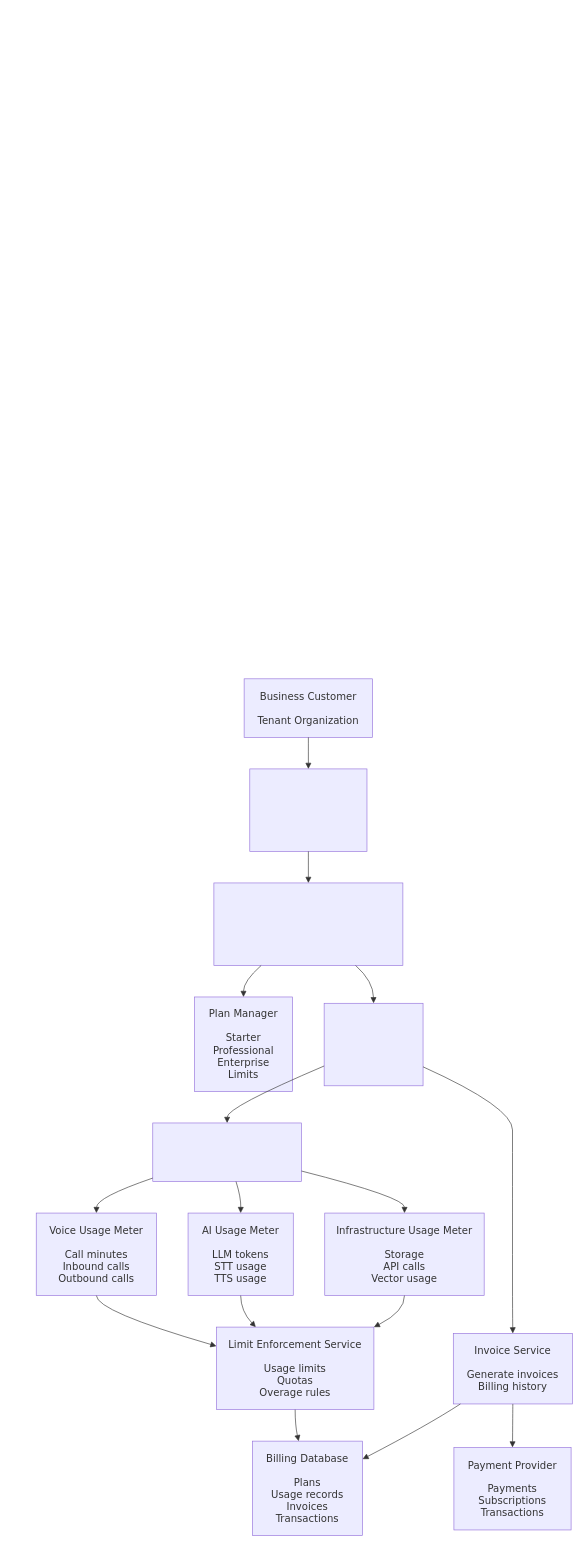
Image size: 583x1547. Some labels were removed from this diagram. Here are the shapes that lost their labels. From the top down, the box of each, then its label:
(249, 768, 367, 851): SaaS Dashboard Subscription view Usage reports Billing settings
(213, 882, 403, 965): Subscription Management Service Plans Subscriptions Renewals
(324, 1003, 423, 1086): Billing Engine Calculations Charges Invoices
(152, 1122, 301, 1182): Usage Collector Collects platform events
